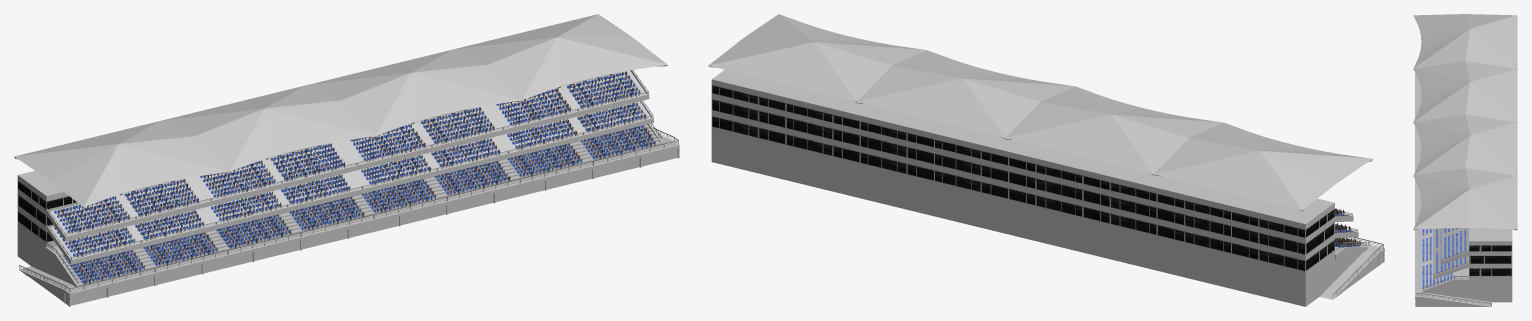
File: GrandStand-11.fbx
The picture shows the model from 3 angles, left to right: view 1: azimuth 30°, elevation 25°; view 2: azimuth 150°, elevation 25°; view 3: azimuth 270°, elevation 25°; orthographic projection. The views are drawn at different scales.
Visible parts, largest first — view 1: GrandStand-11, Audience; view 2: GrandStand-11; view 3: GrandStand-11.
Boxes of the visible parts, <box> form: GrandStand-11: <box>14,14,679,306</box>; Audience: <box>58,71,655,284</box>; GrandStand-11: <box>708,14,1384,306</box>; GrandStand-11: <box>1413,14,1517,306</box>.
Bounding box in the file's own units: 16377 × 2957 × 3242.
